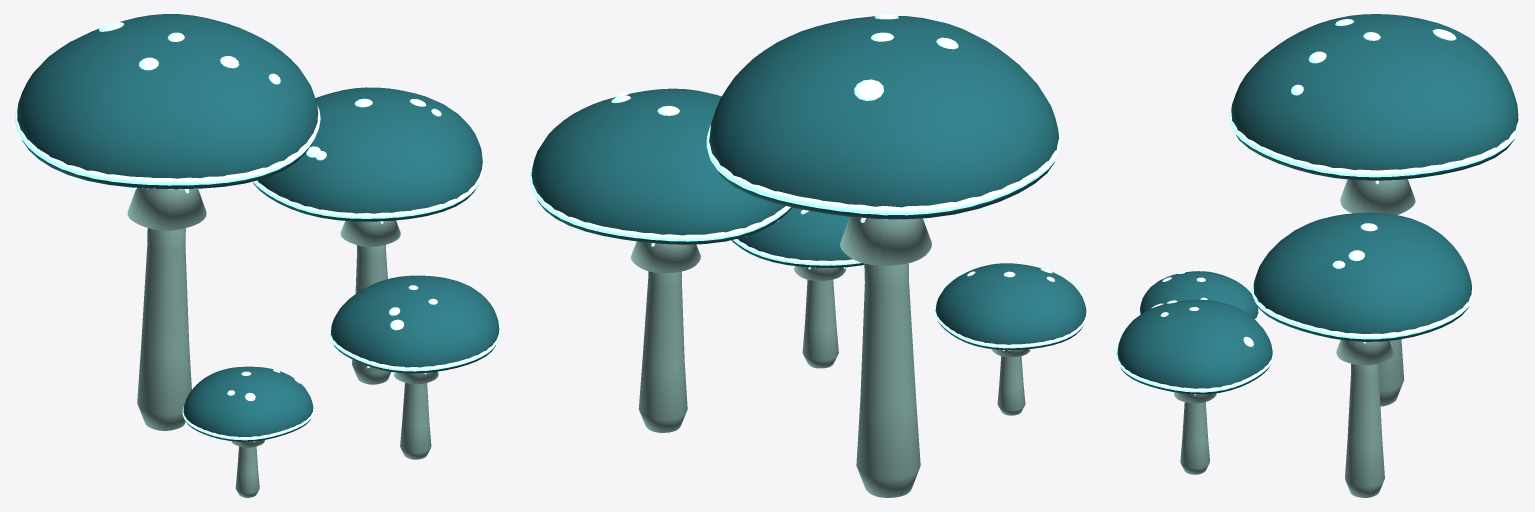
File: SM_SF_GlowMushroomCluster_01.fbx
The picture shows the model from 3 angles, left to right: view 1: azimuth 30°, elevation 25°; view 2: azimuth 150°, elevation 25°; view 3: azimuth 270°, elevation 25°; orthographic projection. The views are drawn at different scales.
Visible parts, largest first — view 1: SM_SF_GlowMushroomCluster_01; view 2: SM_SF_GlowMushroomCluster_01; view 3: SM_SF_GlowMushroomCluster_01.
Part boxes in pixels (bbox=[...]): SM_SF_GlowMushroomCluster_01: bbox=[14, 14, 500, 497]; SM_SF_GlowMushroomCluster_01: bbox=[529, 14, 1087, 497]; SM_SF_GlowMushroomCluster_01: bbox=[1116, 14, 1520, 497].
Size of the model in its own units: 1.48 by 1.26 by 1.27.
